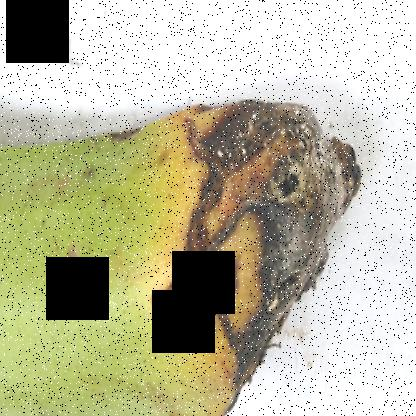rotten: (112, 60, 388, 415)
